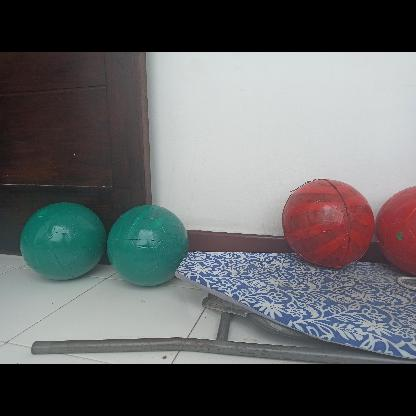red_ball: (282, 176, 372, 266)
